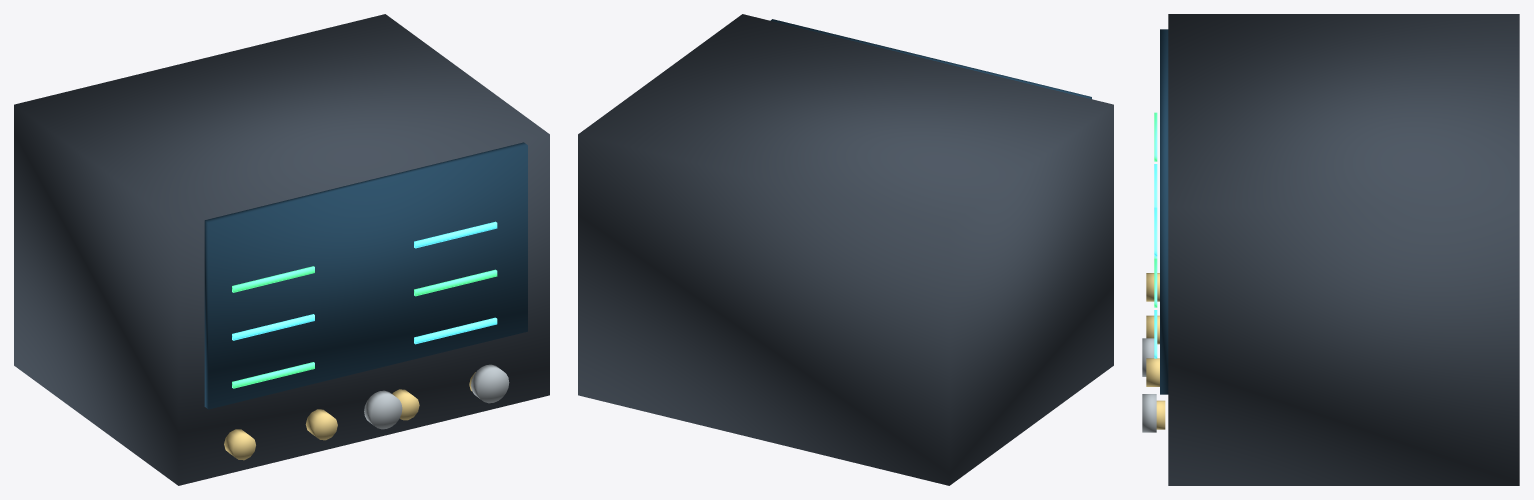
File: 45_L94_ProtectedBenchPowerSupply.glb
3 renders of one model, left to right at view 1: azimuth 30°, elevation 25°; view 2: azimuth 150°, elevation 25°; view 3: azimuth 270°, elevation 25°, orthographic. The views are drawn at different scales.
Parts seen in each view (by area): view 1: L94_ProtectedBenchPowerSupply, L94_ProtectedBenchPowerSupply_Part_0005; view 2: L94_ProtectedBenchPowerSupply; view 3: L94_ProtectedBenchPowerSupply, L94_ProtectedBenchPowerSupply_Part_0005.
Part boxes in pixels (x1,y1,x2,y2): L94_ProtectedBenchPowerSupply: [14, 14, 549, 485]; L94_ProtectedBenchPowerSupply_Part_0005: [364, 364, 509, 429]; L94_ProtectedBenchPowerSupply: [578, 14, 1113, 485]; L94_ProtectedBenchPowerSupply: [1146, 14, 1519, 485]; L94_ProtectedBenchPowerSupply_Part_0005: [1142, 338, 1156, 432].
Bounding box in the file's own units: 0.73 × 0.49 × 0.6015.
